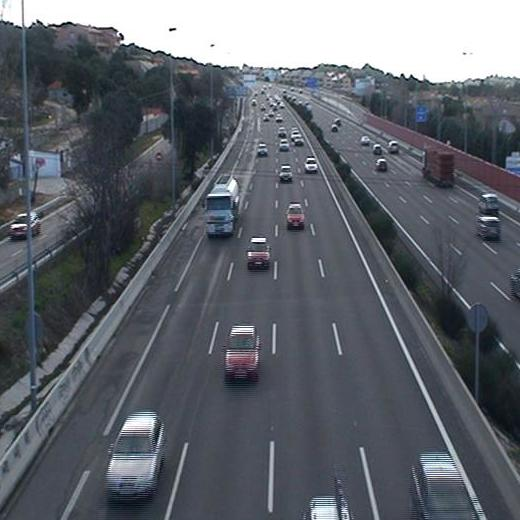car: (102, 411, 167, 503), (223, 324, 263, 382), (245, 237, 272, 269), (284, 202, 307, 229), (278, 163, 294, 182), (304, 156, 318, 173), (256, 142, 269, 158), (278, 137, 290, 152)
tank-truck: (200, 173, 242, 237)
